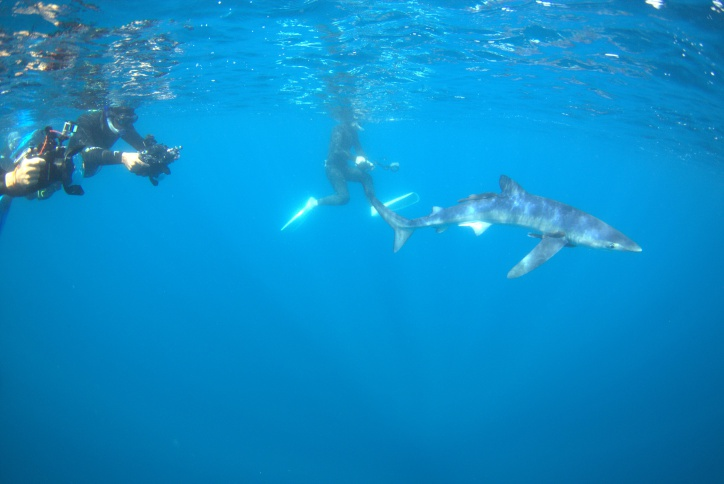Azul: (358, 169, 658, 297)
